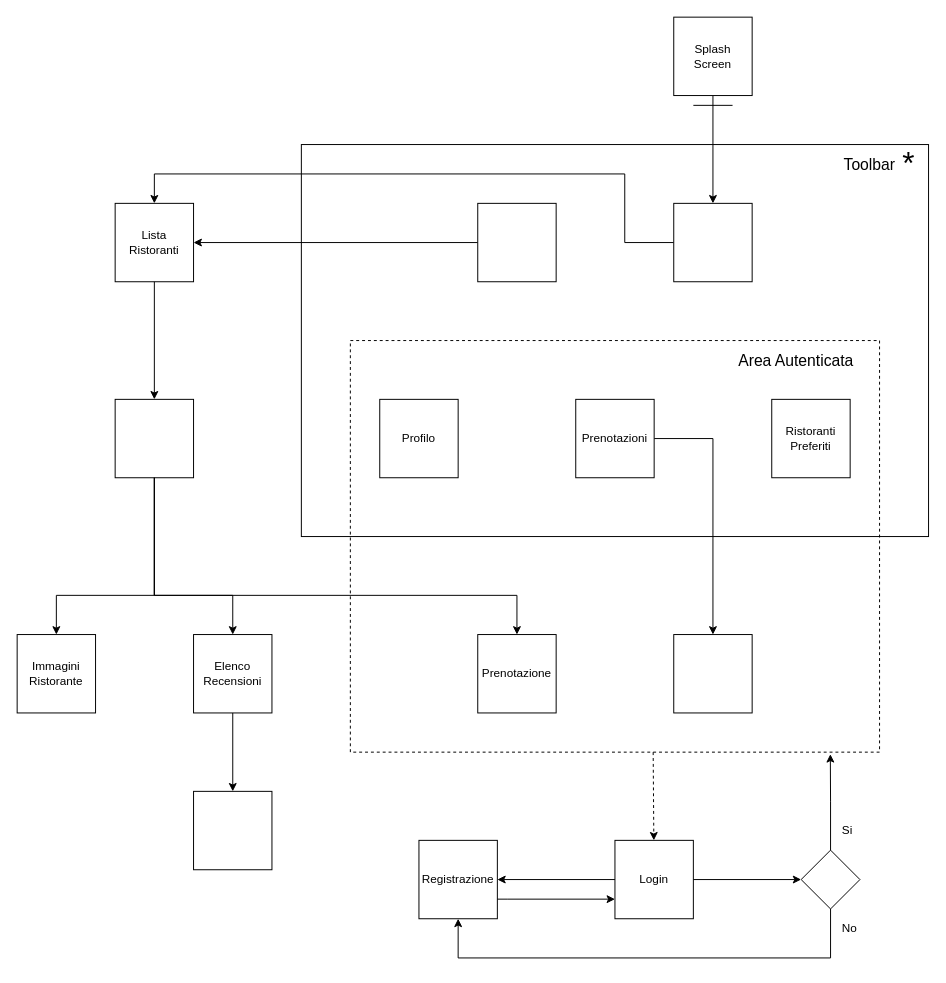
The diagram is 946 pixels wide and 983 high, and some of its shapes have lost their labels. The shapes that lost their labels are listed below. From the top down, each one's centre as x and y in pixels, then its label:
At point (516, 242): "Ricerca".
At point (712, 242): "Esplora".
At point (154, 438): "Dettagli Ristorante".
At point (712, 673): "Recensione".
At point (232, 830): "Immagini Recensione".
